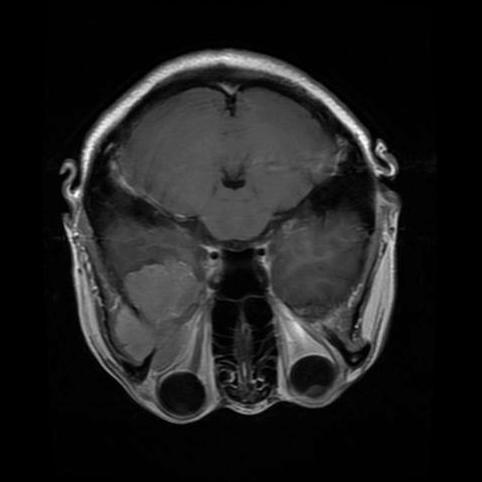Tumour-Pituitary: (108, 246, 210, 357)
